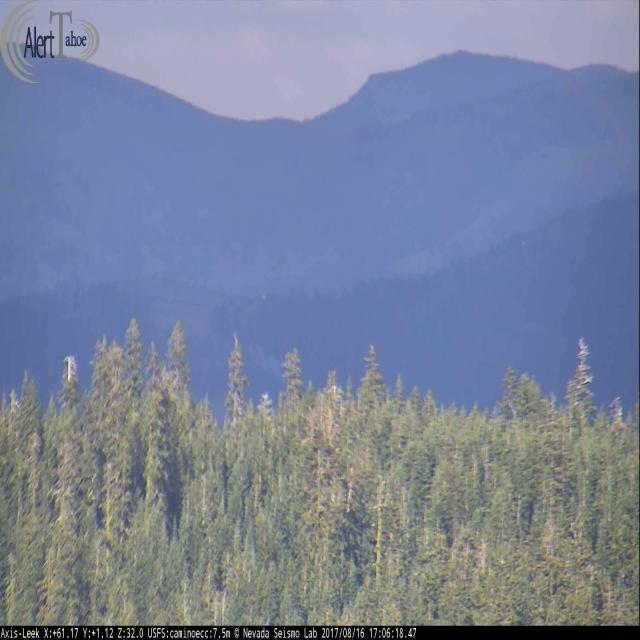smoke: (240, 324, 296, 387)
